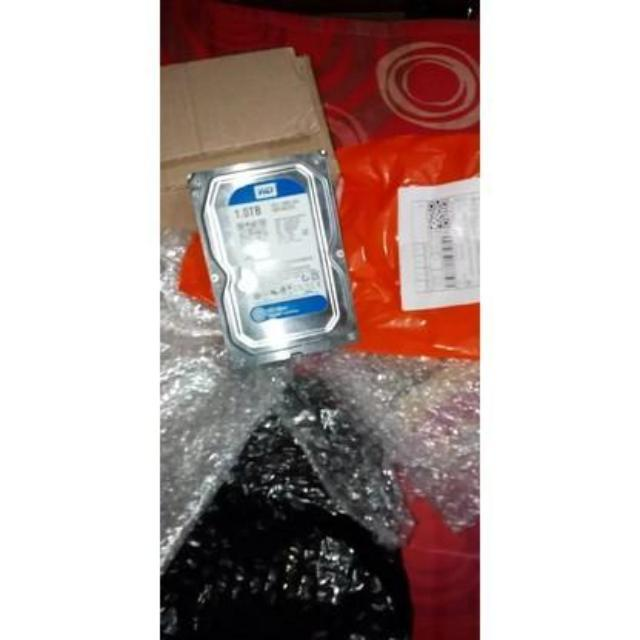DISK: (184, 150, 364, 372)
